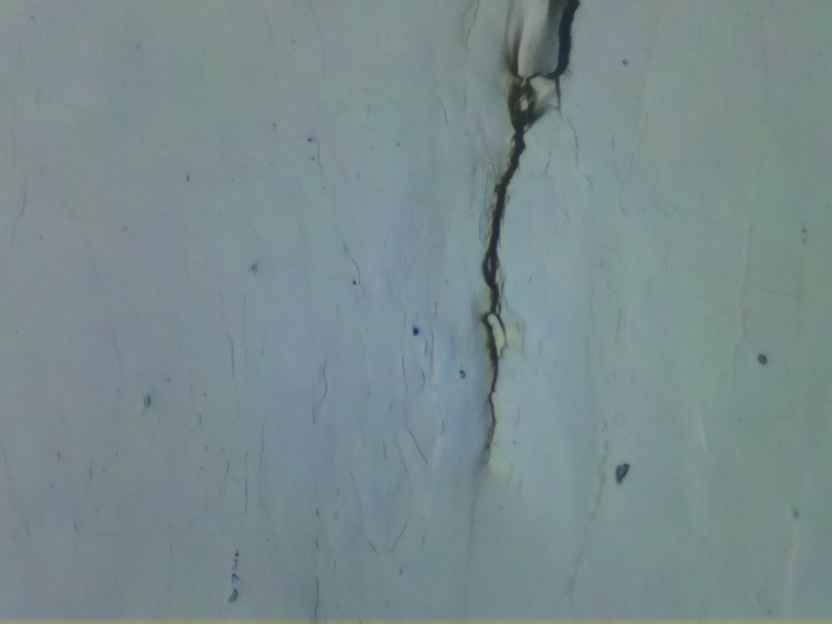crack: (480, 0, 578, 460)
